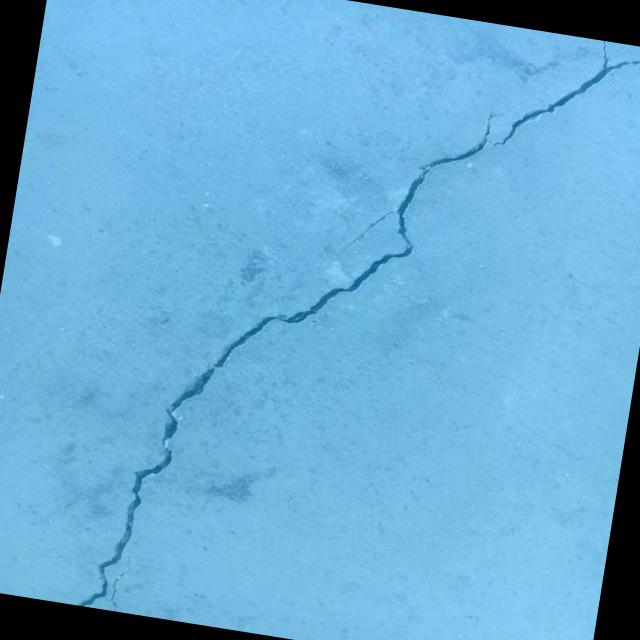crack: (76, 61, 498, 640), (491, 26, 640, 177), (108, 555, 135, 612)
